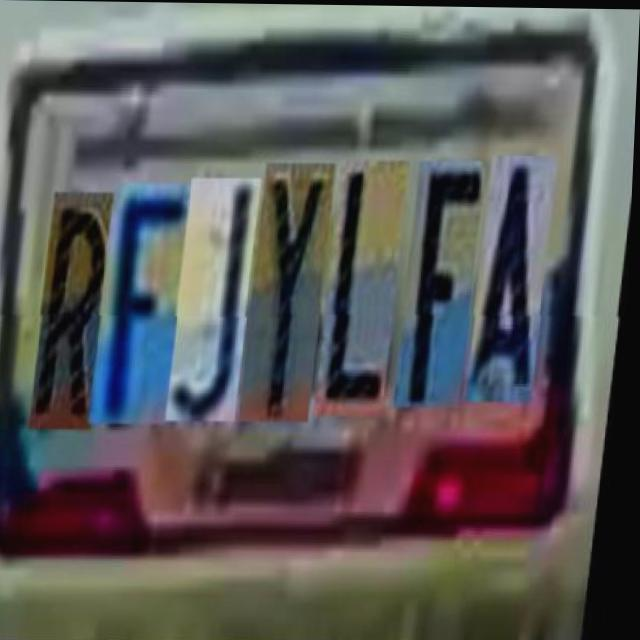a: (476, 154, 564, 402)
f: (99, 183, 198, 424), (403, 160, 491, 408)
j: (176, 177, 268, 422)
l: (325, 159, 417, 417)
r: (40, 192, 123, 430)
y: (248, 161, 343, 422)
